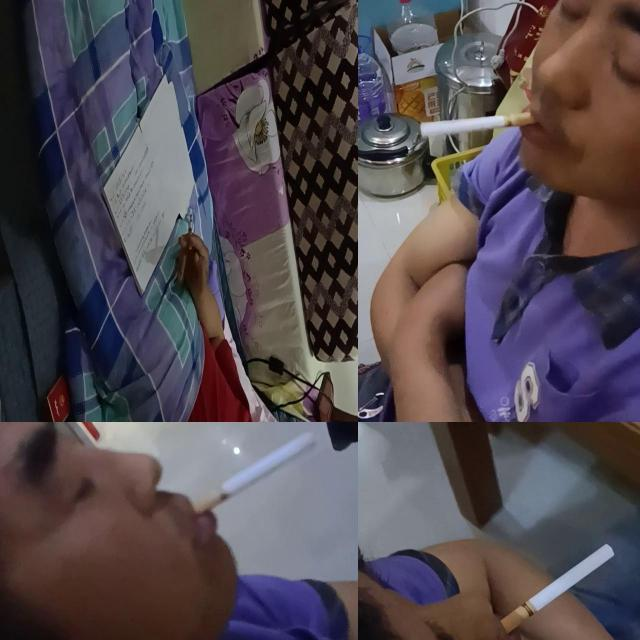cigarette: (192, 434, 318, 518), (503, 544, 617, 634), (420, 110, 542, 139), (188, 214, 192, 250)
